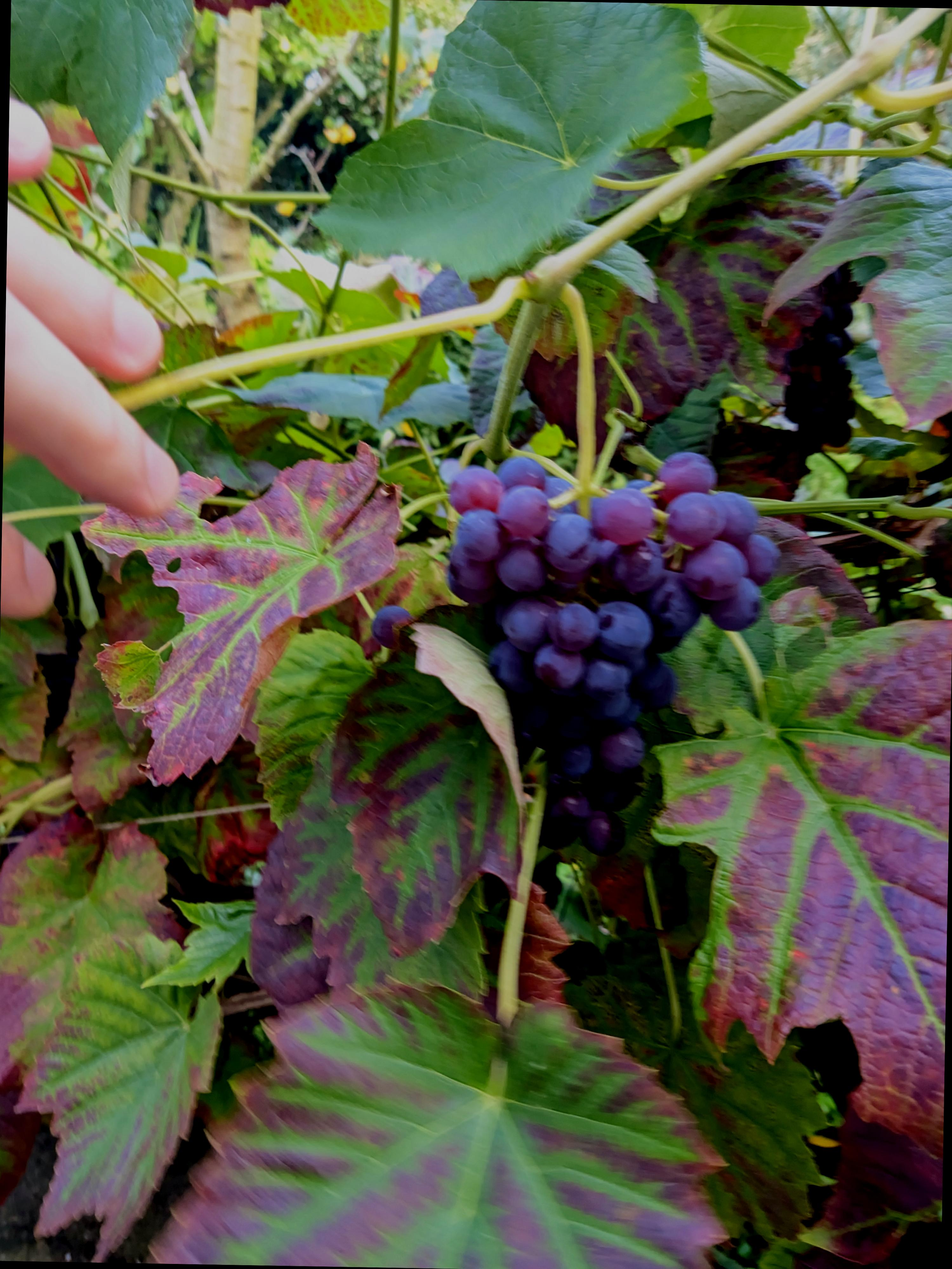Grape Unripe: (450, 441, 799, 853), (794, 245, 871, 447)
